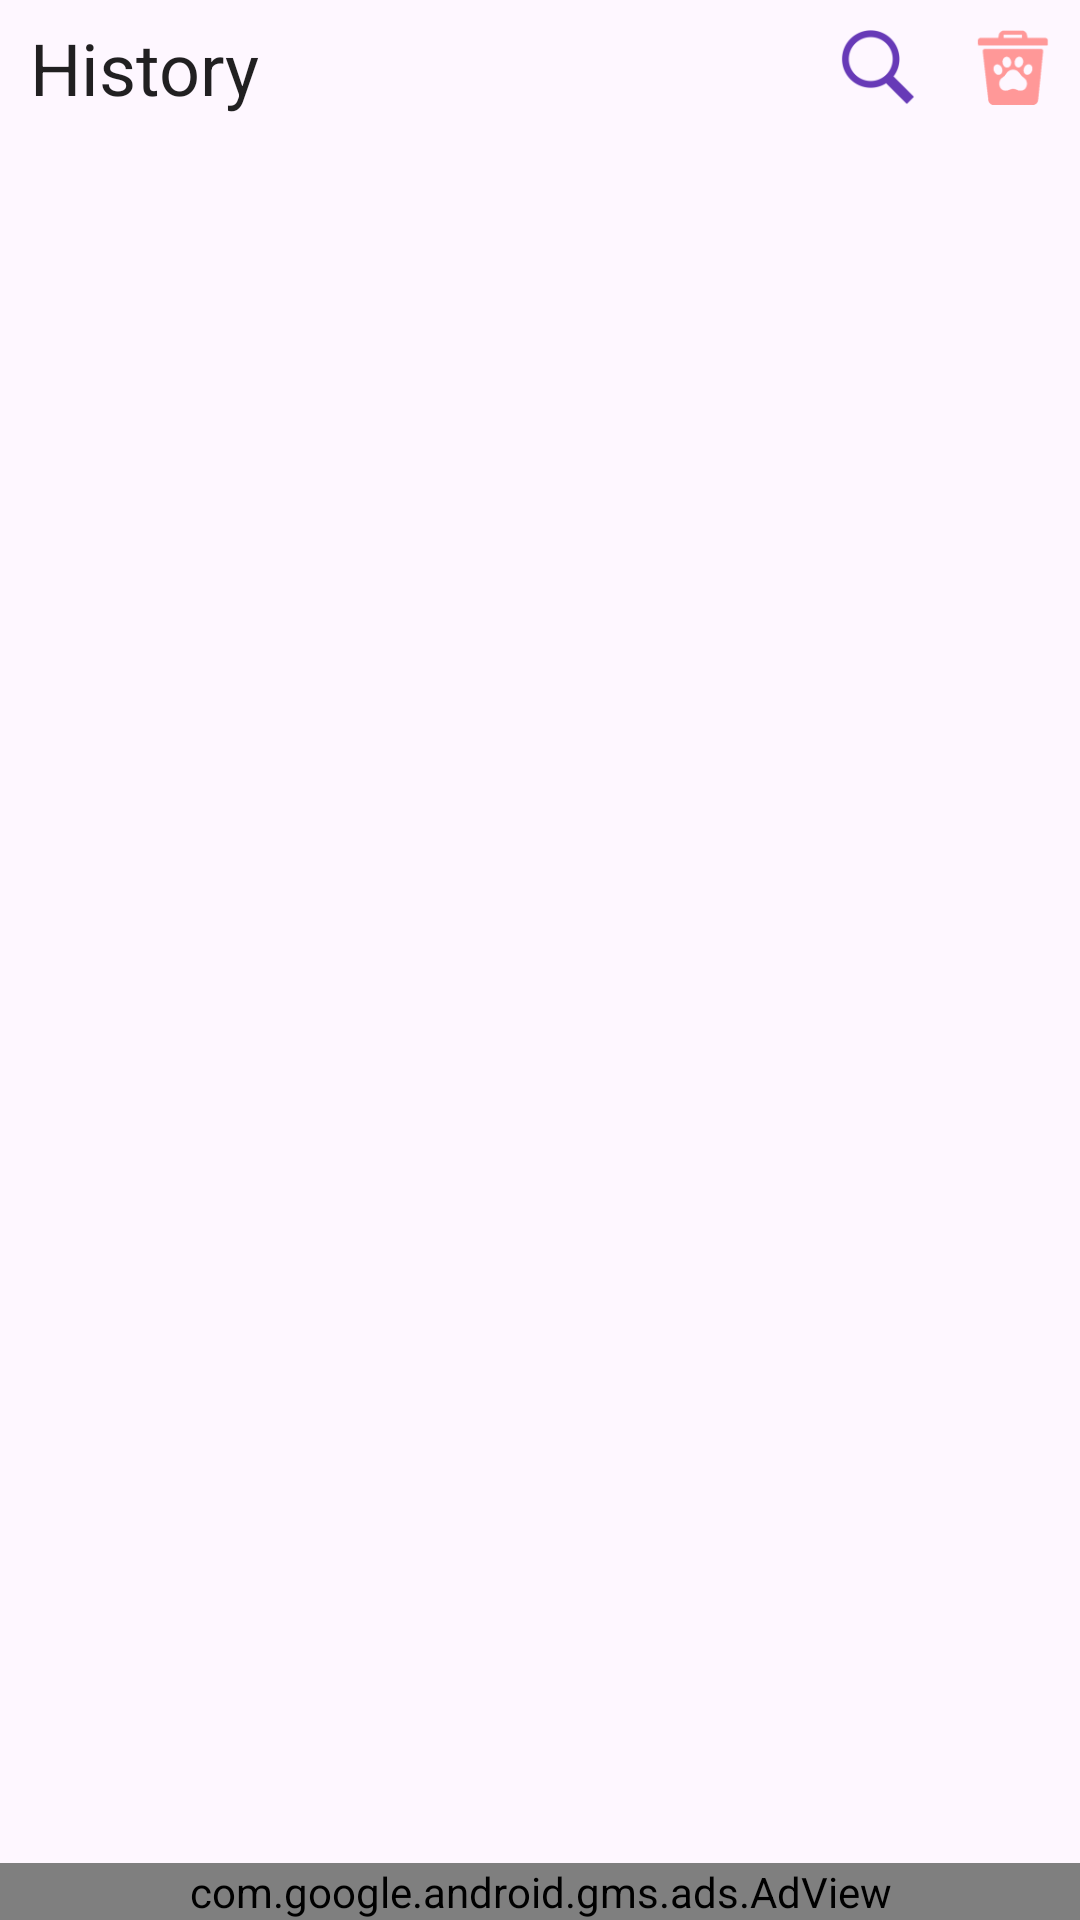

Where to tap for icons on this 1080 x 1920 app screen, as (x=x, y=y):
bookmark search: (x=878, y=67)
history delete: (x=1013, y=67)
